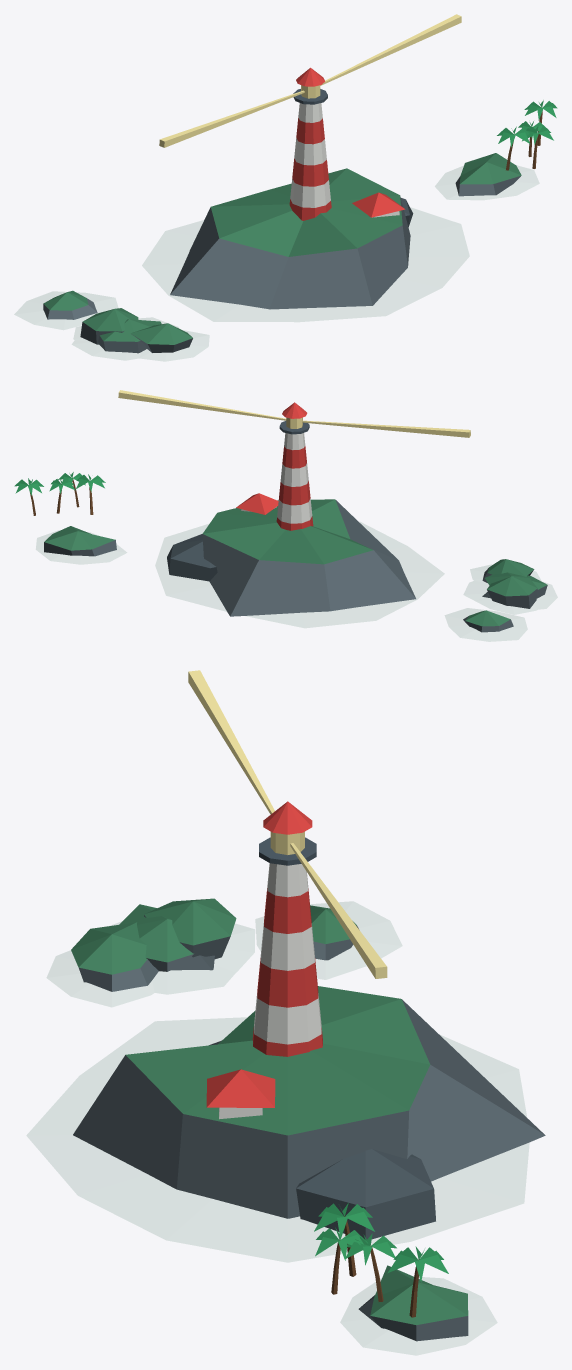
The model's file is W2_Mid_LighthouseIsle.fbx.
3 views of the same model, one above another, from view 1: azimuth 30°, elevation 25°; view 2: azimuth 150°, elevation 25°; view 3: azimuth 270°, elevation 25° (orthographic). The views are drawn at different scales.
Visible parts, largest first — view 1: W2_Mid_LighthouseIsle; view 2: W2_Mid_LighthouseIsle; view 3: W2_Mid_LighthouseIsle.
Part boxes in pixels (left/top/right/bottom): W2_Mid_LighthouseIsle: left=14, top=14, right=557, bottom=361; W2_Mid_LighthouseIsle: left=14, top=390, right=557, bottom=641; W2_Mid_LighthouseIsle: left=26, top=670, right=545, bottom=1355.
Size of the model in its own units: 144 by 47.3 by 66.63.
